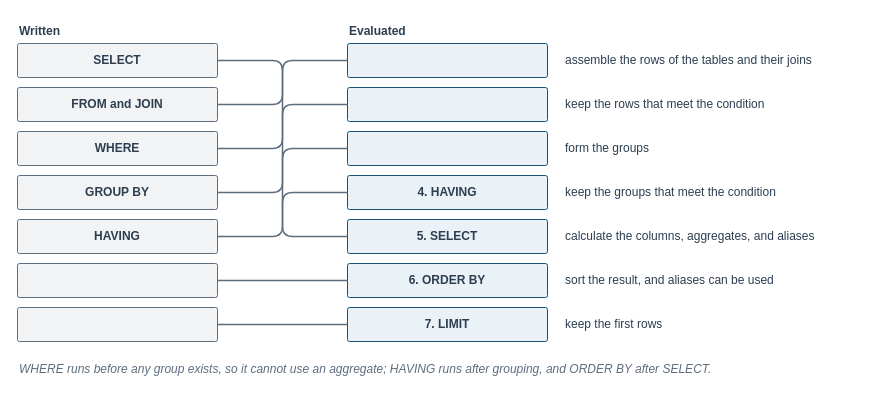
Image size: 895x414. Some labels were removed from this diagram. The centre of each missing label's shape, as x and y in pixels:
1. FROM and JOIN: point 447,60
2. WHERE: point 447,104
3. GROUP BY: point 447,148
LIMIT: point 117,324
ORDER BY: point 117,280
